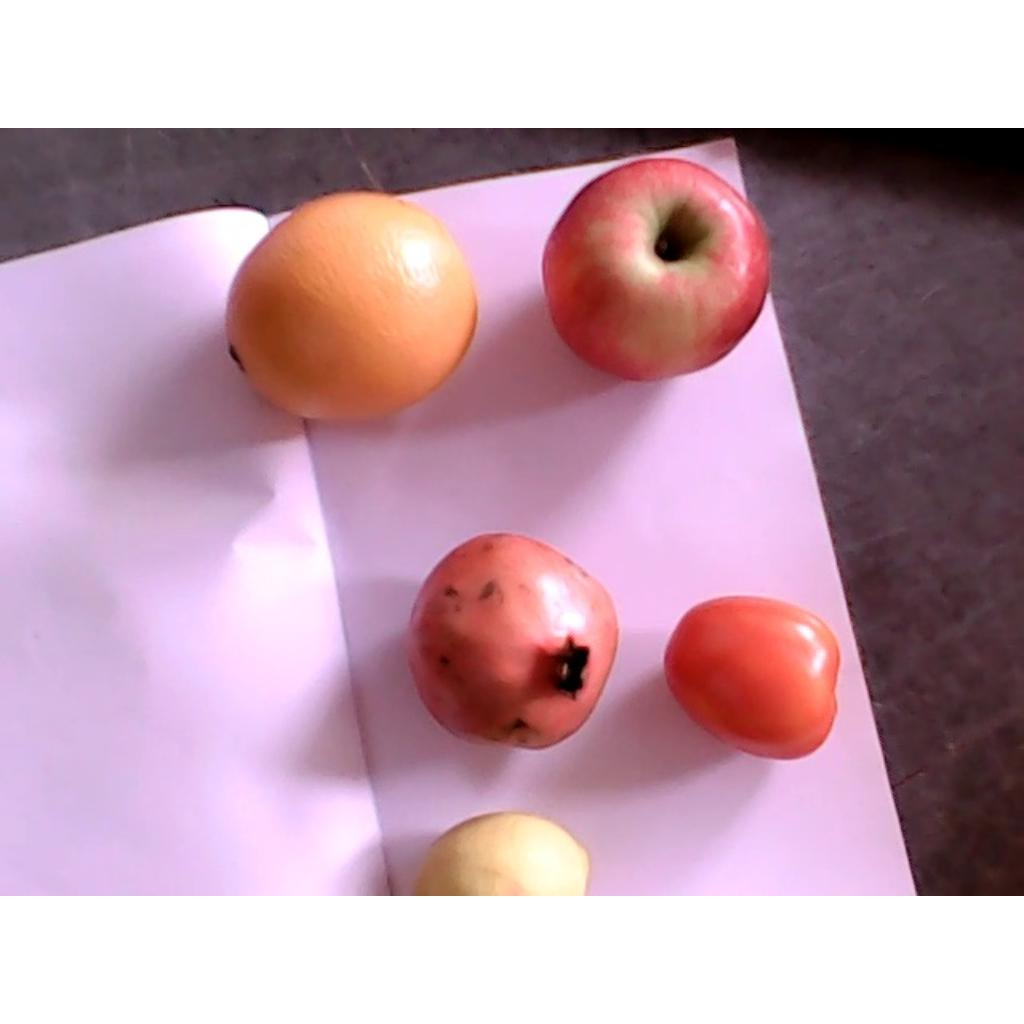apple: (543, 157, 772, 381)
lemon: (409, 812, 589, 894)
orange: (225, 190, 479, 419)
pomegranate: (405, 535, 620, 748)
tomato: (664, 597, 842, 759)
